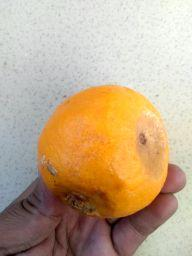Unripe: (37, 87, 168, 216)
